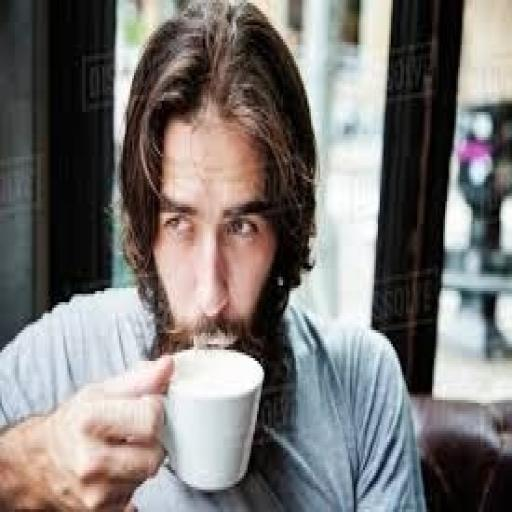drinking: (158, 344, 264, 493)
